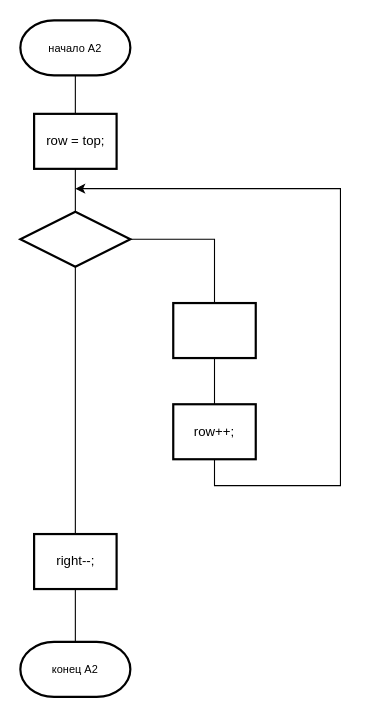
Image size: 369x716. Some labels were removed from this diagram. Each missing label, with the centre of its shape:
arr[row][right] = value++;: pixel 214 330
row <= bottom?: pixel 75 238
